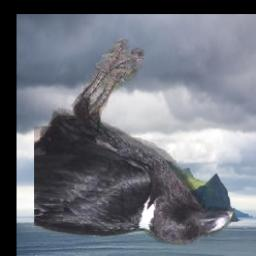Crow: (34, 38, 234, 246)
